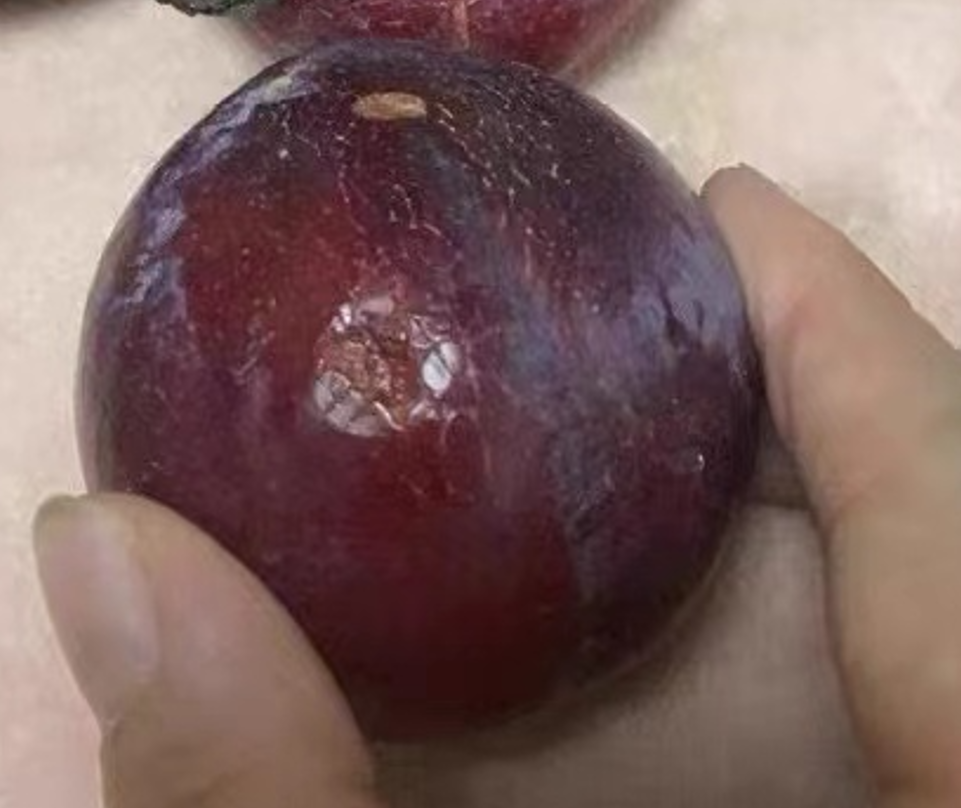plum_C: (73, 36, 759, 749)
